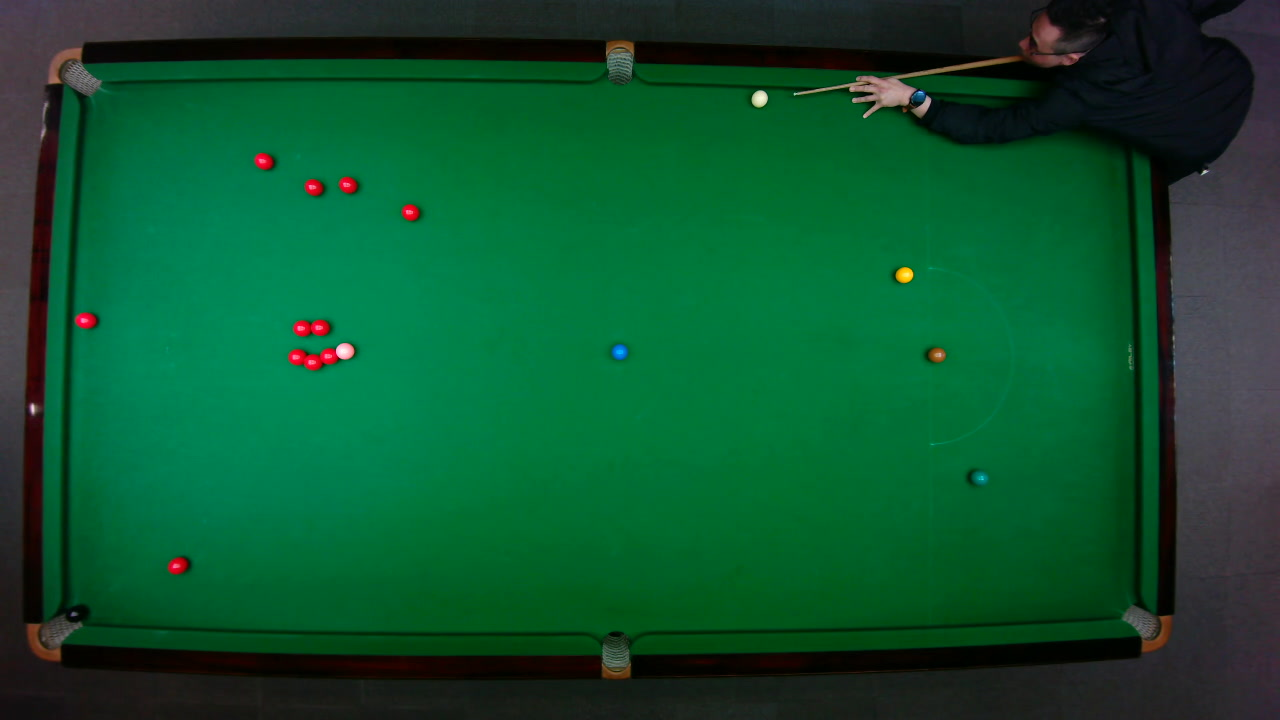bag: (25, 609, 82, 661), (45, 46, 101, 96), (1119, 603, 1171, 652), (600, 629, 629, 680), (605, 38, 633, 85)
black: (64, 605, 85, 622)
blue: (610, 342, 628, 360)
brown: (926, 346, 946, 362)
cue: (792, 54, 1025, 101)
green: (969, 468, 989, 486)
pink: (334, 341, 355, 360)
red: (165, 555, 189, 574), (252, 151, 274, 170), (302, 177, 324, 196), (336, 175, 358, 193), (301, 352, 323, 370), (74, 311, 97, 328), (286, 347, 306, 366), (400, 202, 420, 221), (308, 318, 330, 335), (318, 346, 337, 365), (291, 318, 311, 336)
white: (749, 88, 769, 108)
yellow: (893, 265, 914, 283)
zone: (926, 266, 1014, 445)
